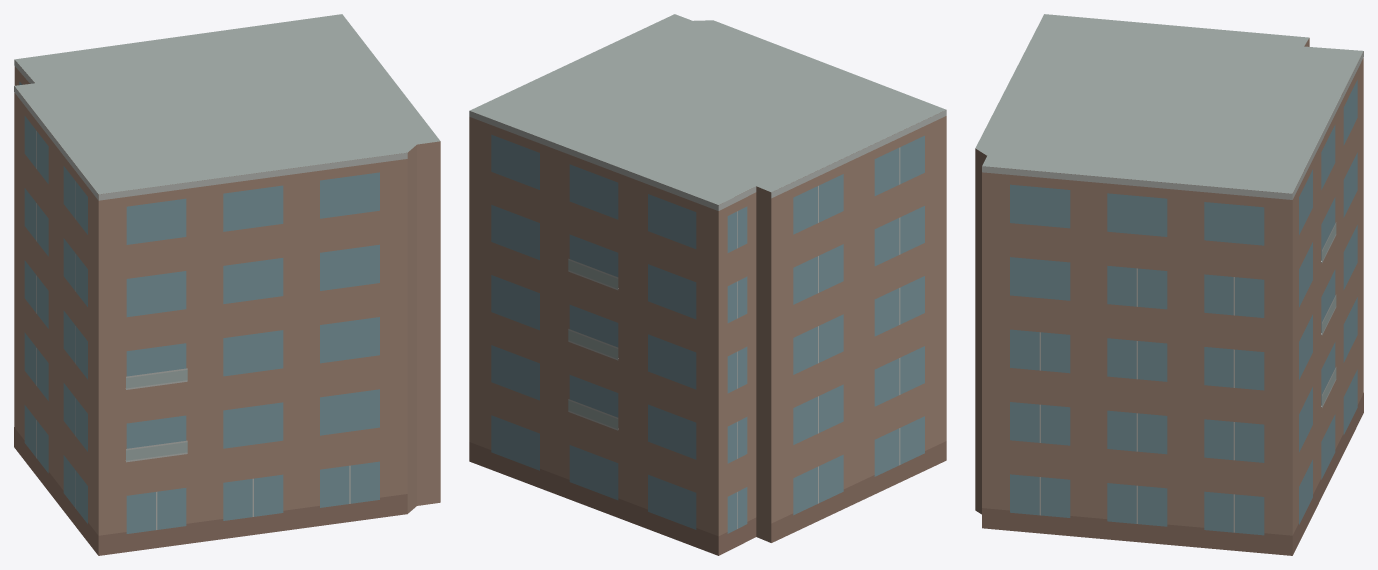
File: survey-upis-32852226.glb
3 views of the same model, side by side, from view 1: azimuth 30°, elevation 25°; view 2: azimuth 150°, elevation 25°; view 3: azimuth 270°, elevation 25° (orthographic). The views are drawn at different scales.
Visible parts, largest first — view 1: survey-upis-32852226.tmp; view 2: survey-upis-32852226.tmp; view 3: survey-upis-32852226.tmp.
Boxes of the visible parts, x1,y1,x2,y2 form: survey-upis-32852226.tmp: (14, 14, 440, 555); survey-upis-32852226.tmp: (469, 14, 946, 555); survey-upis-32852226.tmp: (975, 14, 1363, 555).
Size of the model in its own units: 15.02 by 14.1 by 13.72.
